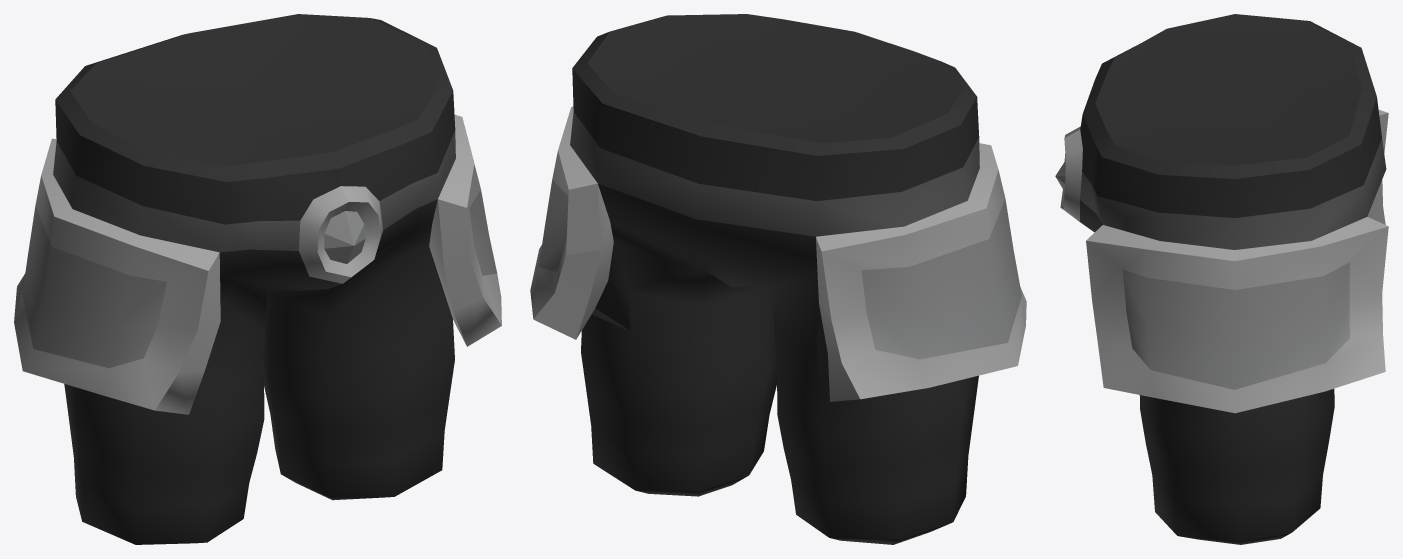
File: Bottom_13.fbx
The picture shows the model from 3 angles, left to right: view 1: azimuth 30°, elevation 25°; view 2: azimuth 150°, elevation 25°; view 3: azimuth 270°, elevation 25°; orthographic projection. The views are drawn at different scales.
Parts seen in each view (by area): view 1: Bottom_13; view 2: Bottom_13; view 3: Bottom_13.
Part boxes in pixels (<box>): Bottom_13: <box>14,14,501,544</box>; Bottom_13: <box>530,14,1026,544</box>; Bottom_13: <box>1055,14,1388,544</box>.
Size of the model in its own units: 50.75 by 42.8 by 33.27.
